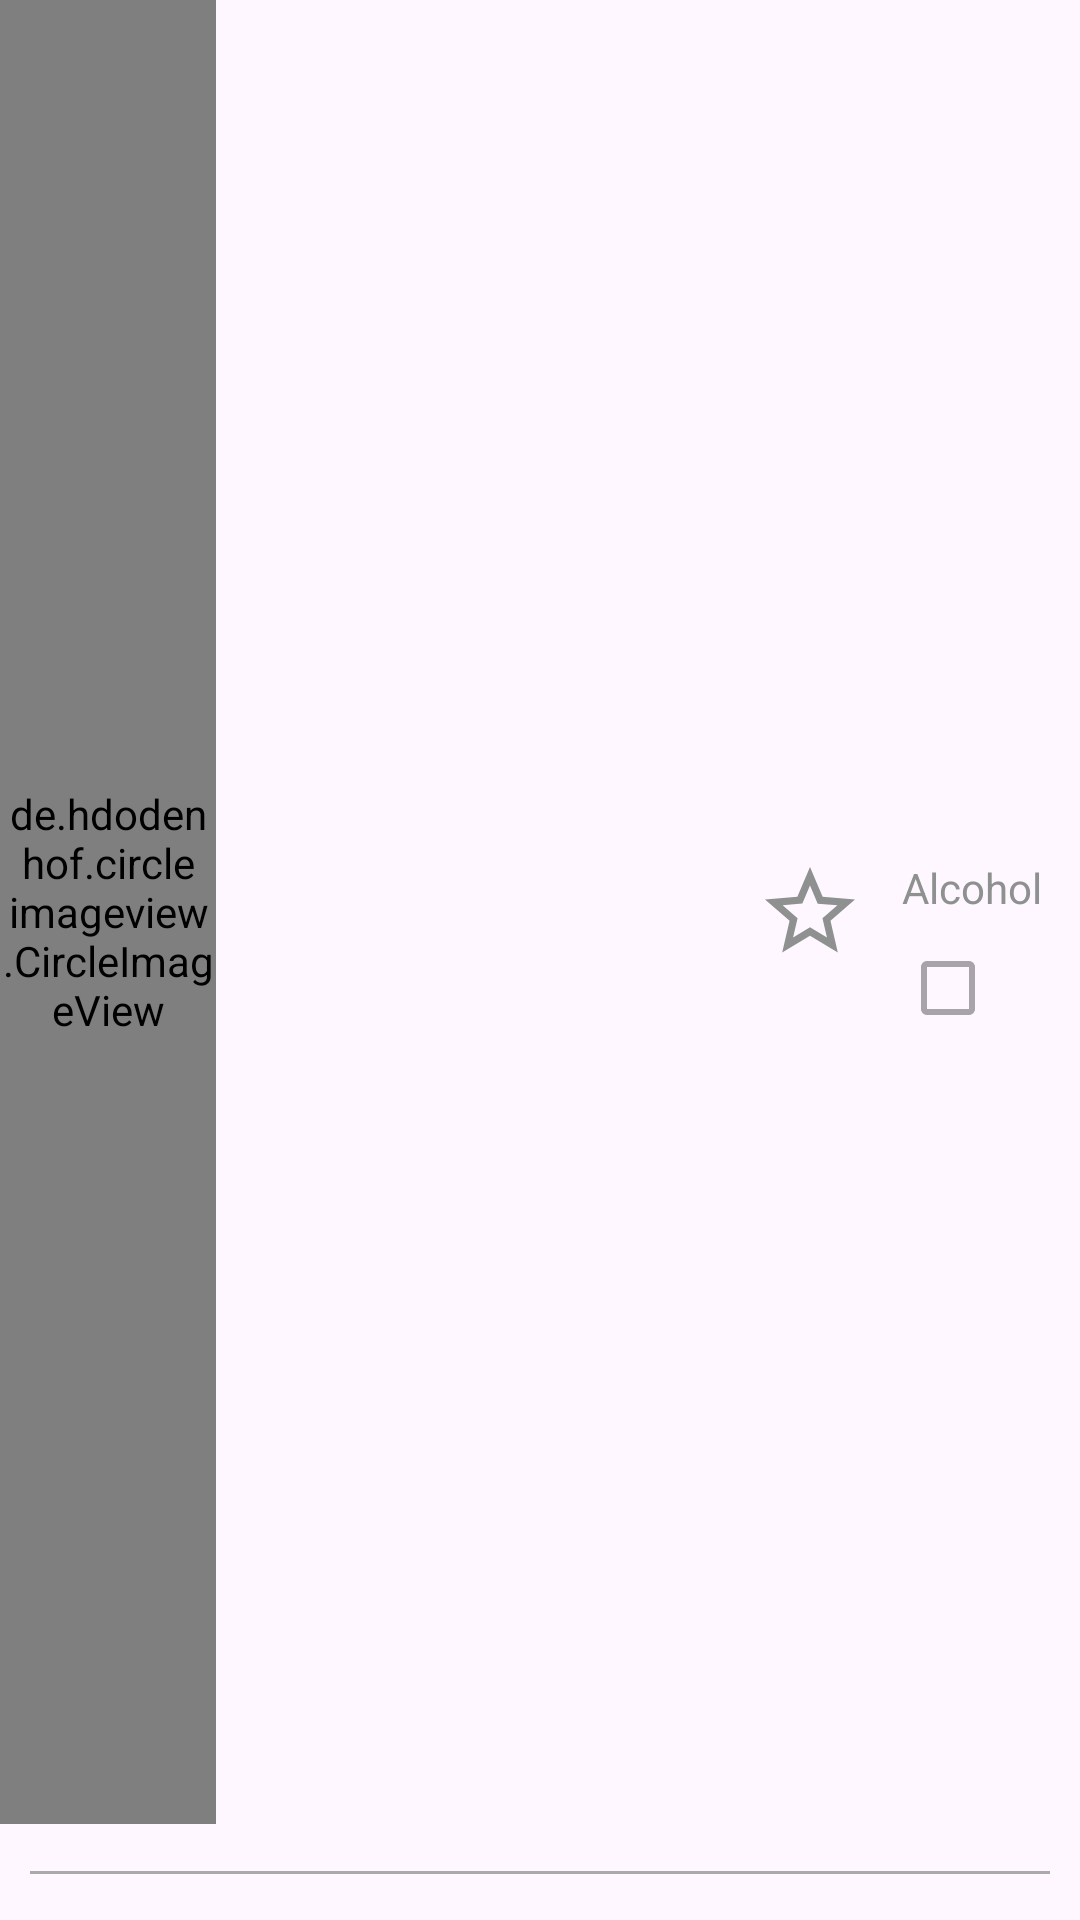

Icon bounding boxes for this 1080px×1920px phone screenshot, format {"left": x1, "top": y1, "right": x2, "bottom": y2}:
star: {"left": 765, "top": 868, "right": 855, "bottom": 952}
